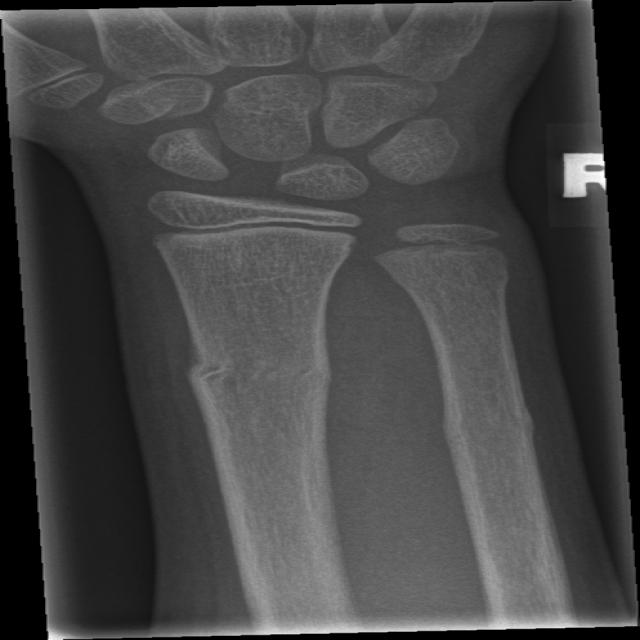radius fracture: (169, 337, 360, 432)
